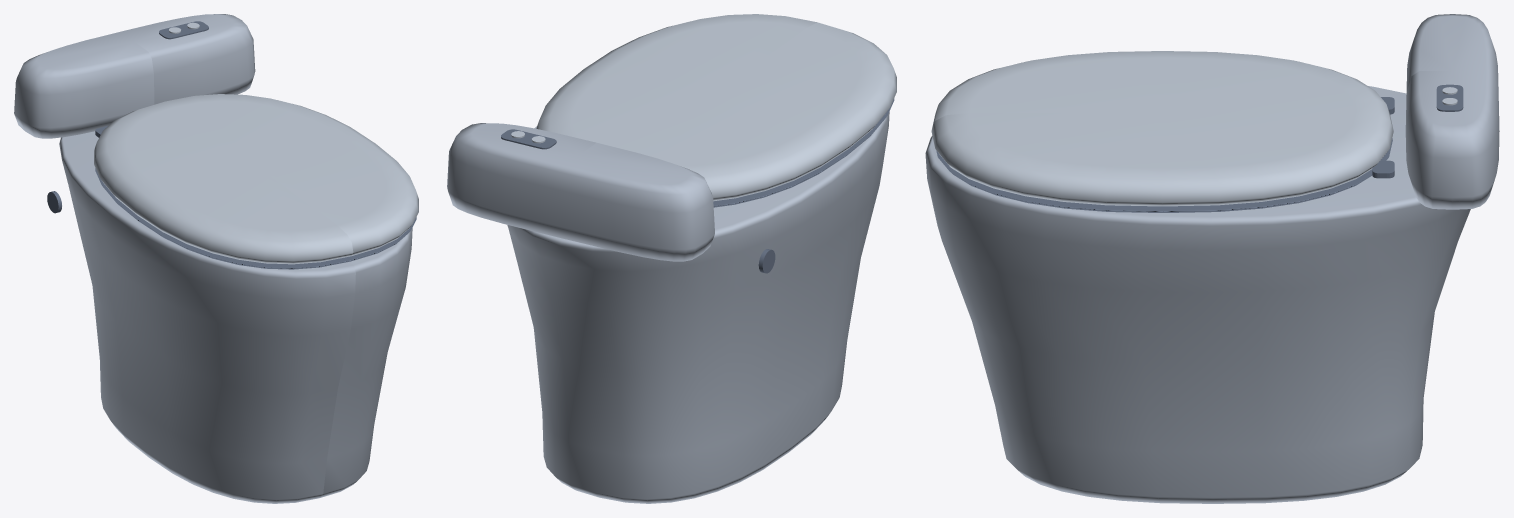
The model's file is toilet-lite.glb.
3 views of the same model, side by side, from view 1: azimuth 30°, elevation 25°; view 2: azimuth 150°, elevation 25°; view 3: azimuth 270°, elevation 25° (orthographic). The views are drawn at different scales.
Visible parts, largest first — view 1: toilet; view 2: toilet; view 3: toilet.
Boxes of the visible parts, box(x1,y1,x2,y2) form: toilet: box(14, 14, 418, 503); toilet: box(447, 14, 896, 503); toilet: box(925, 14, 1499, 503).
Size of the model in its own units: 0.42 by 0.52 by 0.7.
